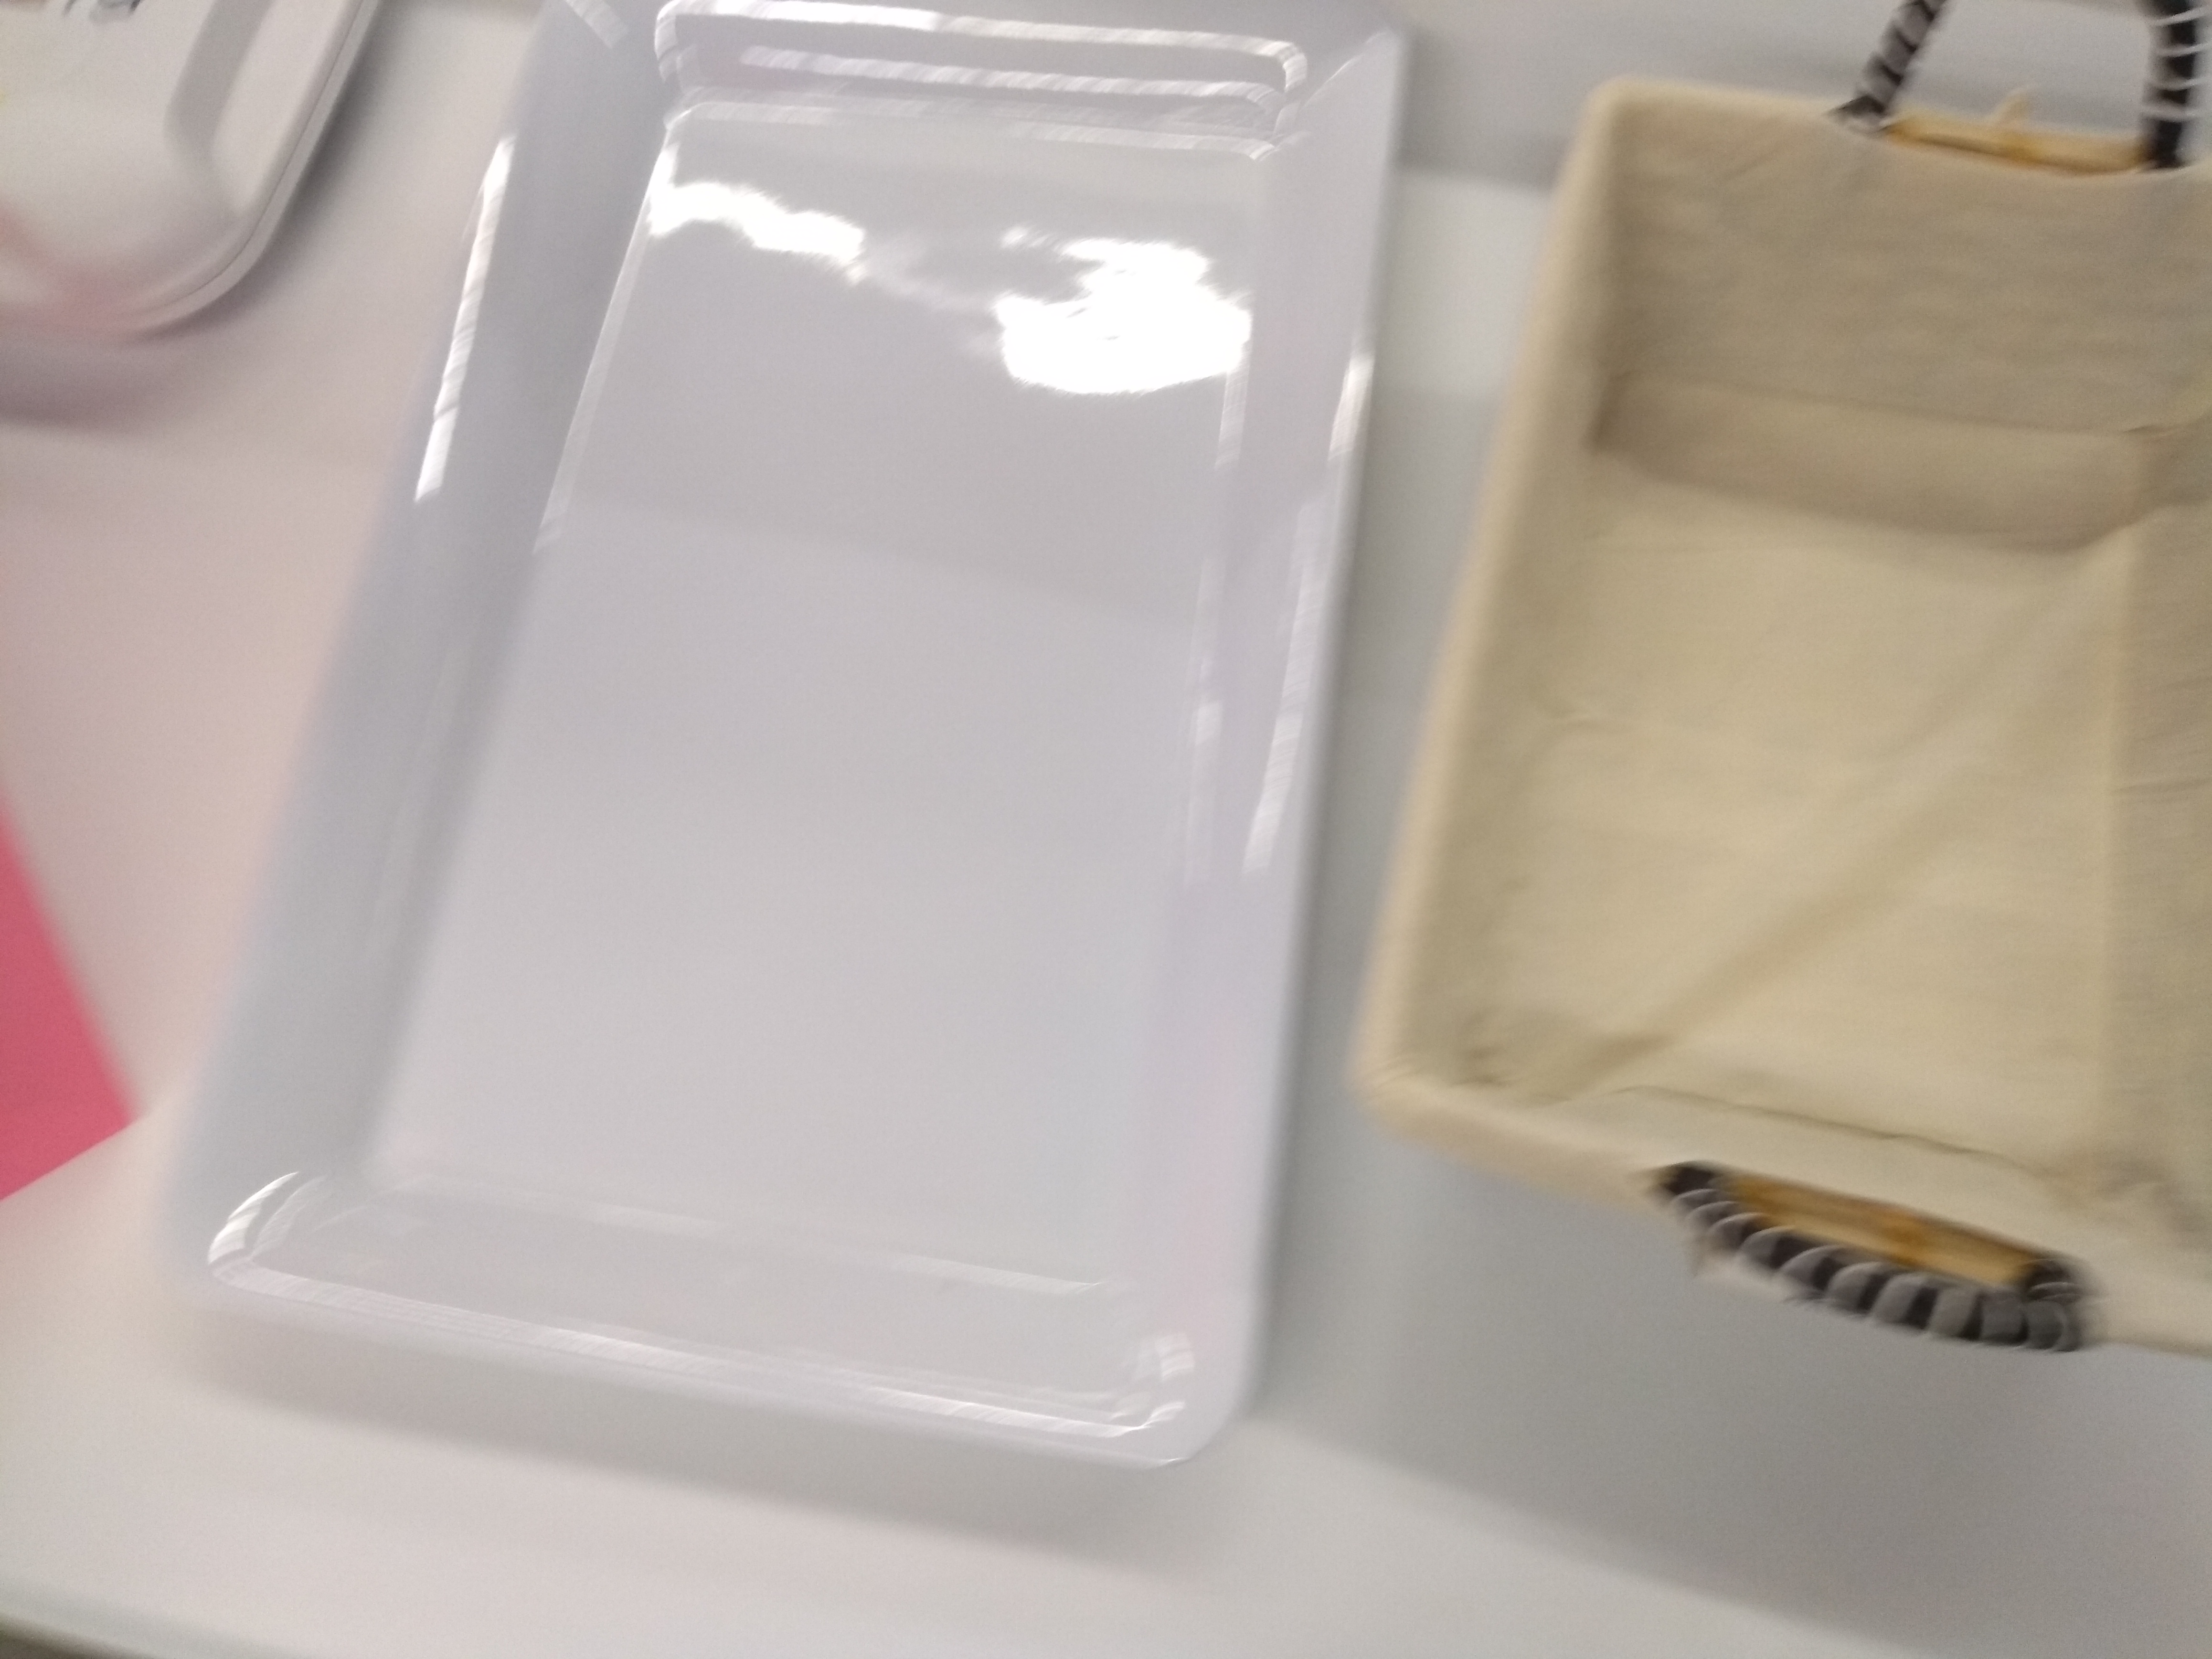basket: (1350, 2, 2212, 1371)
tray: (200, 0, 1406, 1504)
